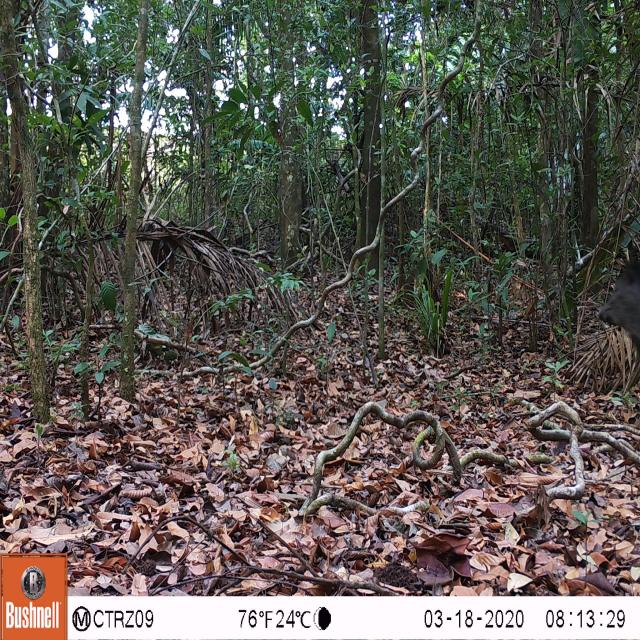Collared Peccary: (588, 237, 640, 367)
